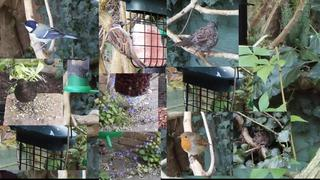blackbird: (14, 79, 43, 116)
dunnock: (172, 20, 219, 57)
great tit: (20, 20, 79, 53)
mouse: (252, 132, 271, 149)
robin: (177, 132, 213, 163)
sparrow: (108, 20, 147, 70)
